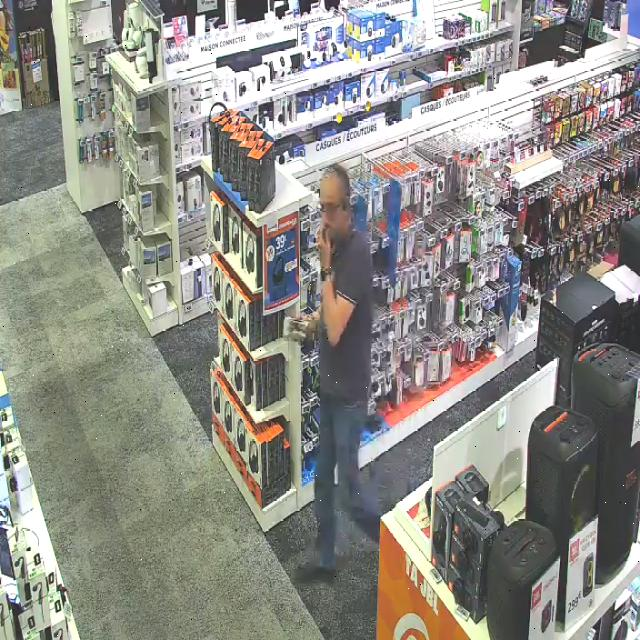article: (284, 319, 306, 338)
hands: (317, 227, 332, 269), (296, 311, 319, 337)
person: (297, 164, 378, 581)
